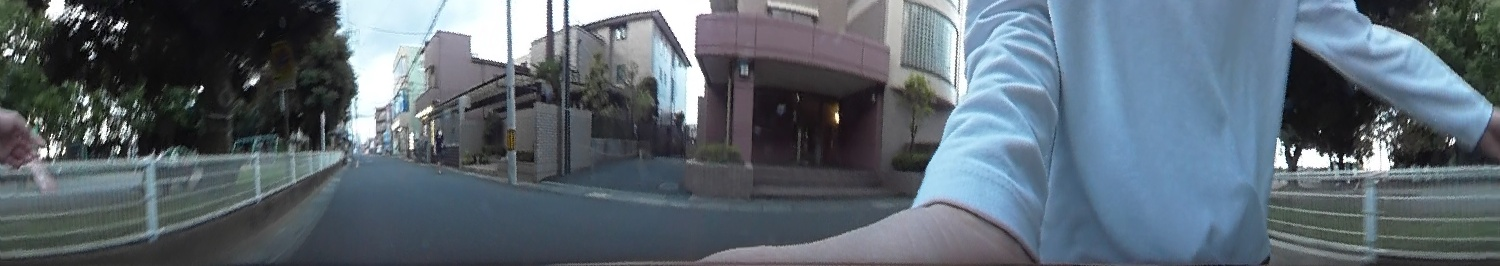difficult_person: (430, 123, 446, 171)
